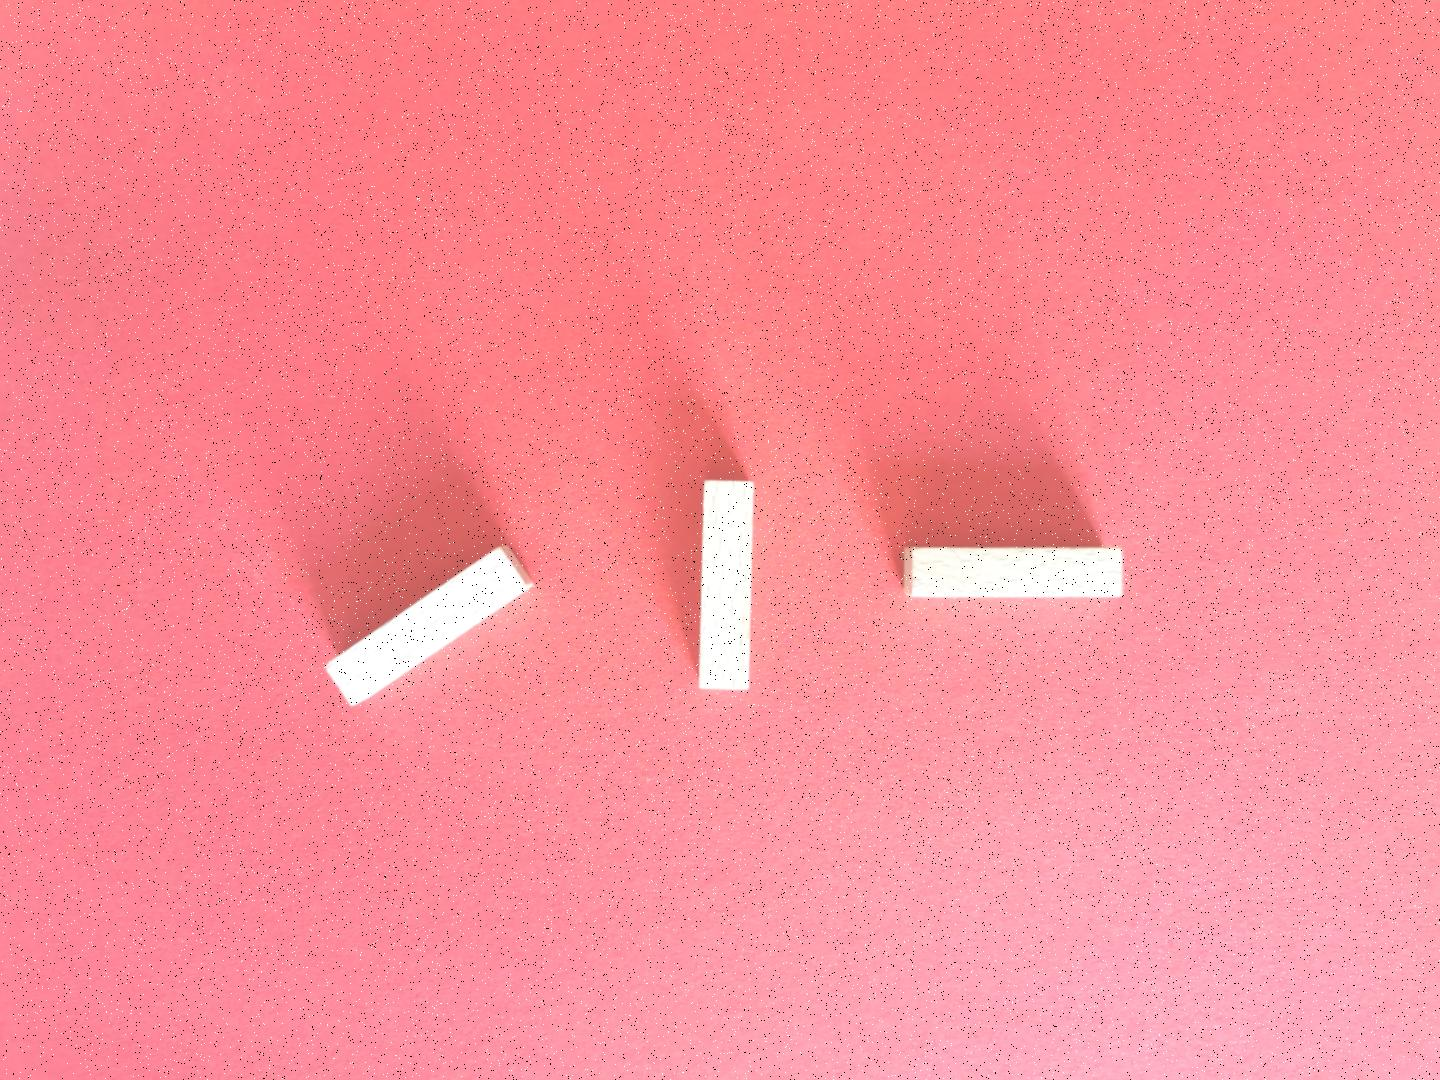jenga: (327, 546, 532, 706), (701, 481, 754, 689), (906, 548, 1123, 597)
